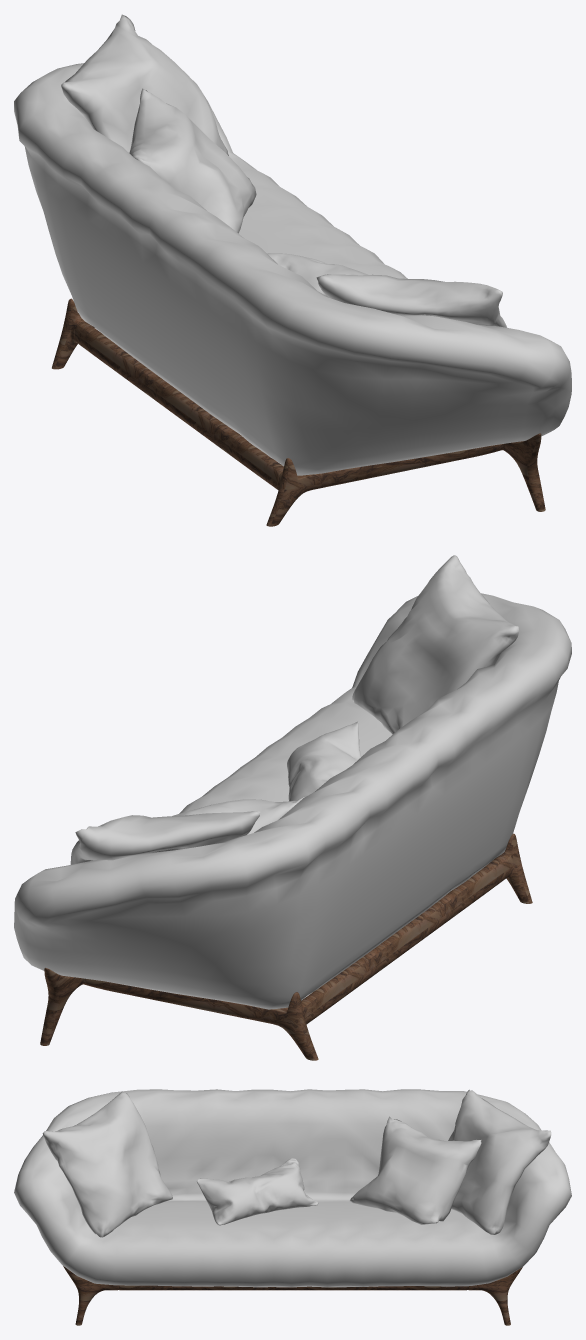
Rendered from sofa_3.FBX.
3 views of the same model, one above another, from view 1: azimuth 30°, elevation 25°; view 2: azimuth 150°, elevation 25°; view 3: azimuth 270°, elevation 25° (orthographic). The views are drawn at different scales.
Parts seen in each view (by area): view 1: sofa_3; view 2: sofa_3; view 3: sofa_3.
Part boxes in pixels (x1=…): sofa_3: x1=14, y1=14, x2=571, y2=526; sofa_3: x1=14, y1=555, x2=571, y2=1060; sofa_3: x1=14, y1=1089, x2=571, y2=1325.
Size of the model in its own units: 1011 by 940 by 2740.
